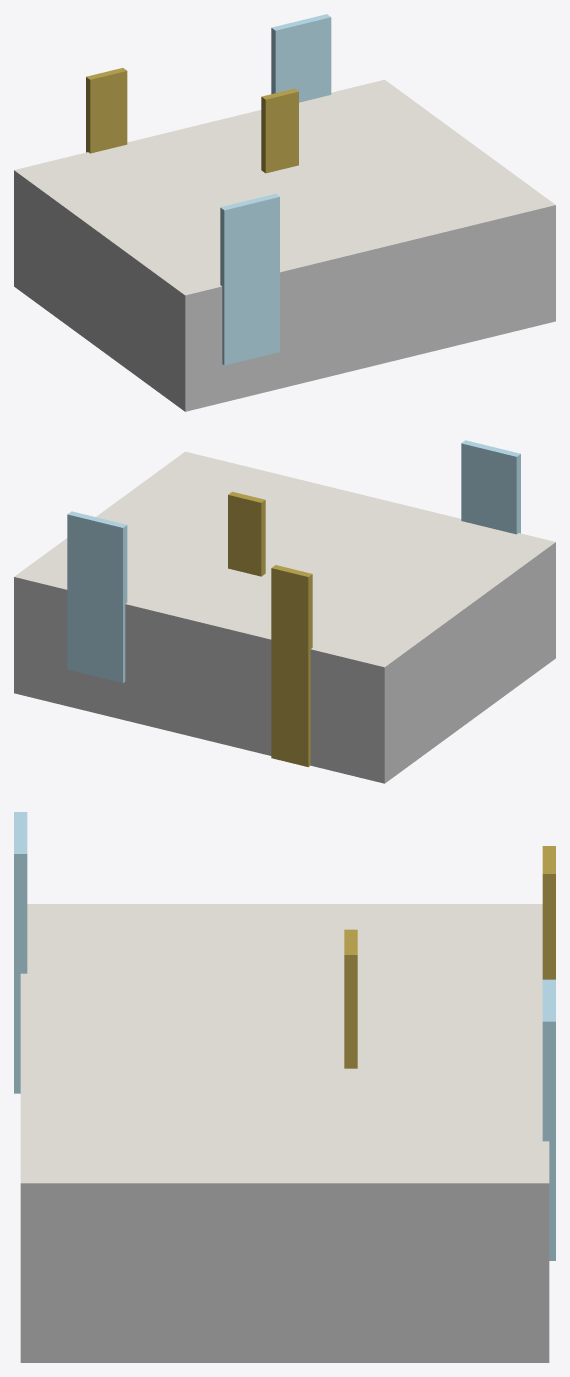
3 views of the same model, one above another, from view 1: azimuth 30°, elevation 25°; view 2: azimuth 150°, elevation 25°; view 3: azimuth 270°, elevation 25° (orthographic). The views are drawn at different scales.
Visible parts, largest first — view 1: c9891d37c2f7, 27c3e3ba30dd, 2eee01e1fcd7, c919edb97503, 1a7b620528fd, 3744ea045a75, 34173af5d843, 962441c7030f; view 2: c9891d37c2f7, 27c3e3ba30dd, 962441c7030f, 3744ea045a75, b05cfb05dda5, c919edb97503, 1a7b620528fd, 34173af5d843, 2eee01e1fcd7; view 3: 27c3e3ba30dd, c9891d37c2f7, 1a7b620528fd, 34173af5d843, c919edb97503, 3744ea045a75, 2eee01e1fcd7, 962441c7030f.
Part boxes in pixels (left/top/right/bottom): c9891d37c2f7: left=14, top=170, right=555, bottom=411; 27c3e3ba30dd: left=14, top=79, right=555, bottom=295; 2eee01e1fcd7: left=220, top=243, right=279, bottom=365; c919edb97503: left=220, top=193, right=279, bottom=318; 1a7b620528fd: left=271, top=14, right=331, bottom=100; 3744ea045a75: left=86, top=68, right=127, bottom=153; 34173af5d843: left=261, top=88, right=298, bottom=173; 962441c7030f: left=271, top=64, right=331, bottom=102; c9891d37c2f7: left=14, top=542, right=555, bottom=783; 27c3e3ba30dd: left=14, top=451, right=555, bottom=667; 962441c7030f: left=67, top=561, right=127, bottom=682; 3744ea045a75: left=271, top=565, right=312, bottom=685; b05cfb05dda5: left=271, top=649, right=310, bottom=767; c919edb97503: left=461, top=440, right=520, bottom=533; 1a7b620528fd: left=67, top=511, right=127, bottom=630; 34173af5d843: left=228, top=491, right=265, bottom=576; 2eee01e1fcd7: left=461, top=490, right=520, bottom=534; 27c3e3ba30dd: left=20, top=904, right=549, bottom=1183; c9891d37c2f7: left=20, top=1183, right=549, bottom=1362; 1a7b620528fd: left=542, top=979, right=555, bottom=1188; 34173af5d843: left=344, top=929, right=357, bottom=1068; c919edb97503: left=14, top=812, right=27, bottom=1020; 3744ea045a75: left=542, top=846, right=555, bottom=979; 2eee01e1fcd7: left=14, top=925, right=27, bottom=1093; 962441c7030f: left=542, top=1093, right=555, bottom=1260.
Size of the model in its own units: 10 by 5 by 8.2.
